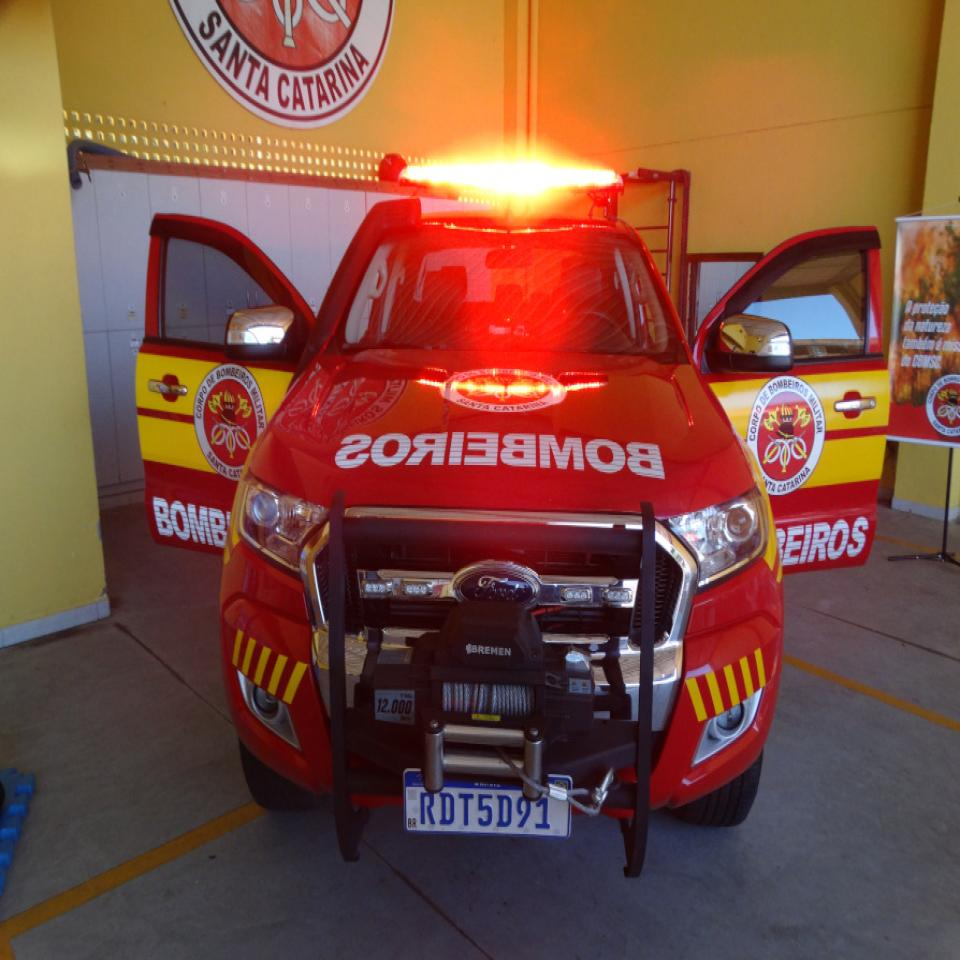viatura: (133, 151, 897, 883)
